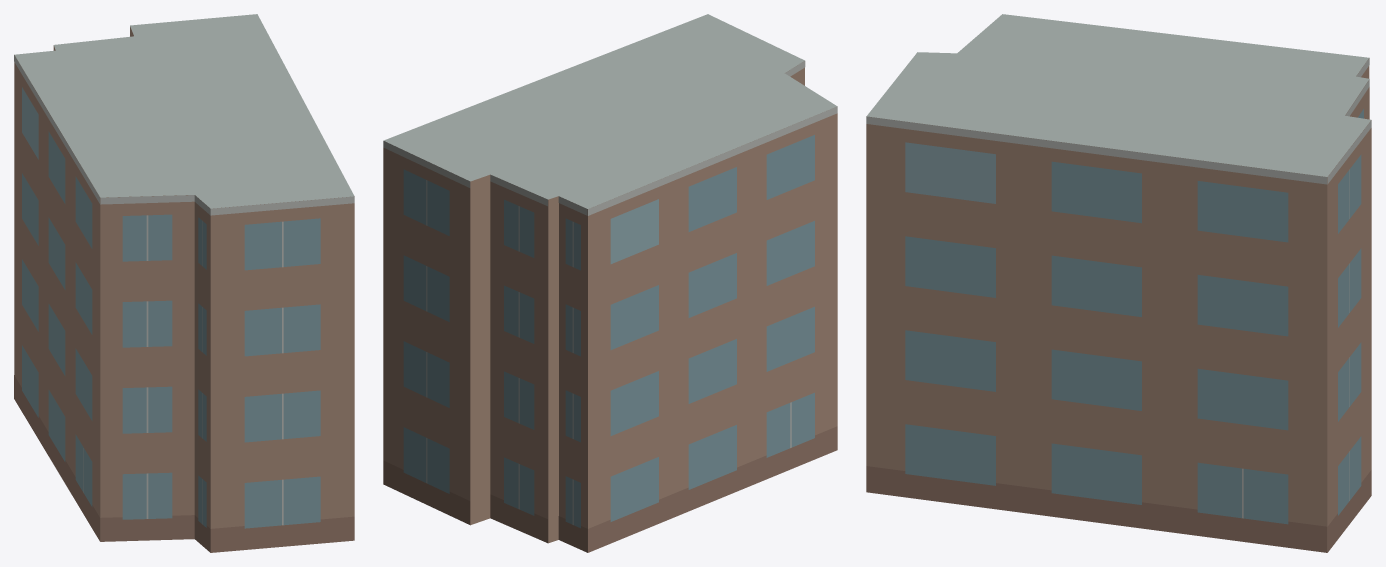
Rendered from survey-upis-32645986.glb.
3 renders of one model, left to right at view 1: azimuth 30°, elevation 25°; view 2: azimuth 150°, elevation 25°; view 3: azimuth 270°, elevation 25°, orthographic. The views are drawn at different scales.
Visible parts, largest first — view 1: survey-upis-32645986.tmp; view 2: survey-upis-32645986.tmp; view 3: survey-upis-32645986.tmp.
Part boxes in pixels (<box>): survey-upis-32645986.tmp: <box>14,14,354,552</box>; survey-upis-32645986.tmp: <box>383,14,837,552</box>; survey-upis-32645986.tmp: <box>866,14,1371,552</box>.
Bounding box in the file's own units: 11.36 × 12.2 × 14.87.
